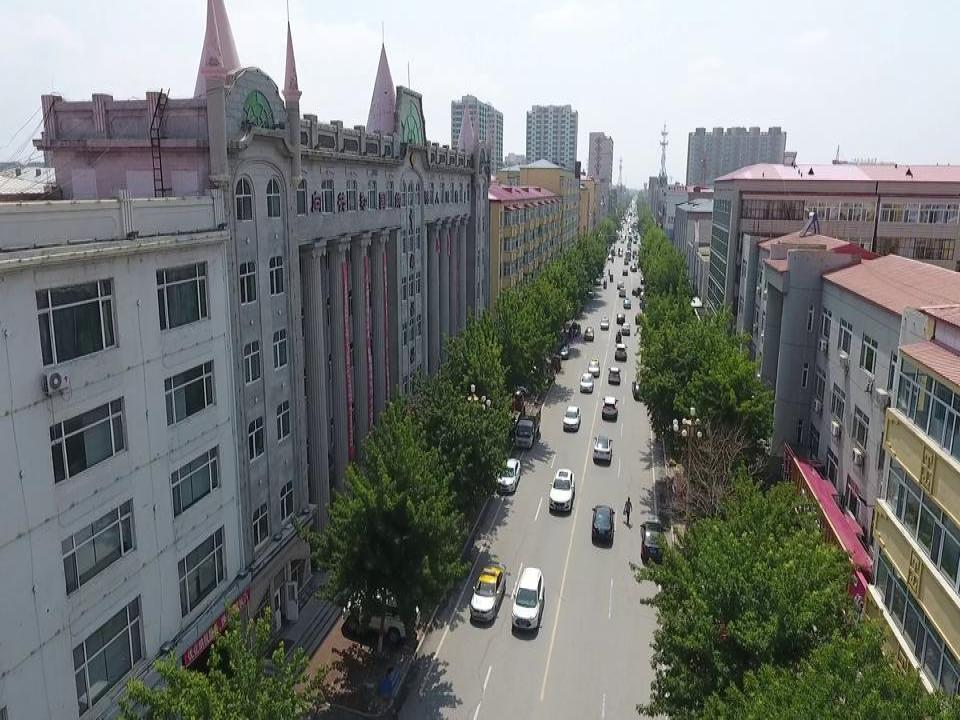bus: (625, 251, 631, 260)
car: (470, 563, 506, 621), (640, 522, 666, 562), (495, 457, 521, 492), (592, 505, 615, 540), (497, 373, 532, 396), (563, 406, 581, 430), (632, 380, 647, 400), (580, 373, 594, 392), (587, 357, 600, 376), (559, 342, 570, 358), (568, 323, 581, 336), (584, 327, 594, 340), (621, 323, 631, 336), (585, 288, 595, 299), (600, 318, 609, 330), (616, 312, 625, 324), (623, 297, 631, 308), (632, 286, 642, 294), (617, 280, 624, 288), (640, 276, 646, 284), (622, 269, 628, 276), (630, 265, 636, 272), (607, 253, 611, 260)
truck: (515, 404, 541, 448), (638, 290, 650, 298)
van: (342, 583, 420, 644), (511, 567, 545, 628), (549, 468, 575, 511), (593, 435, 613, 461), (601, 396, 619, 419), (608, 367, 621, 384), (615, 343, 628, 360), (593, 275, 601, 285), (619, 288, 626, 297), (624, 258, 628, 266)
